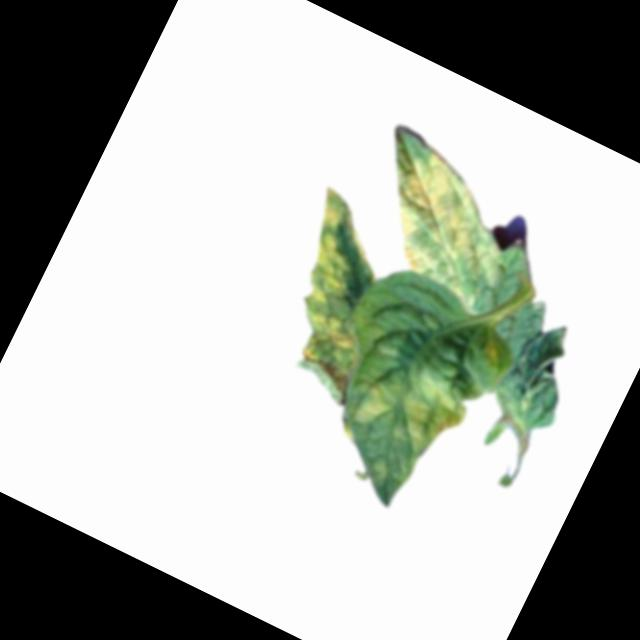Leaf_Mold: (244, 184, 422, 401), (342, 131, 531, 316), (382, 364, 477, 467), (340, 363, 405, 436)
